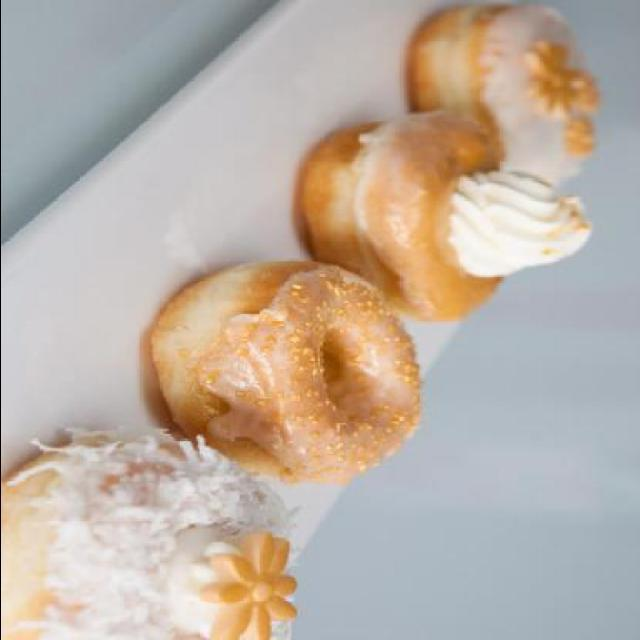Bagel: (148, 260, 430, 482)
